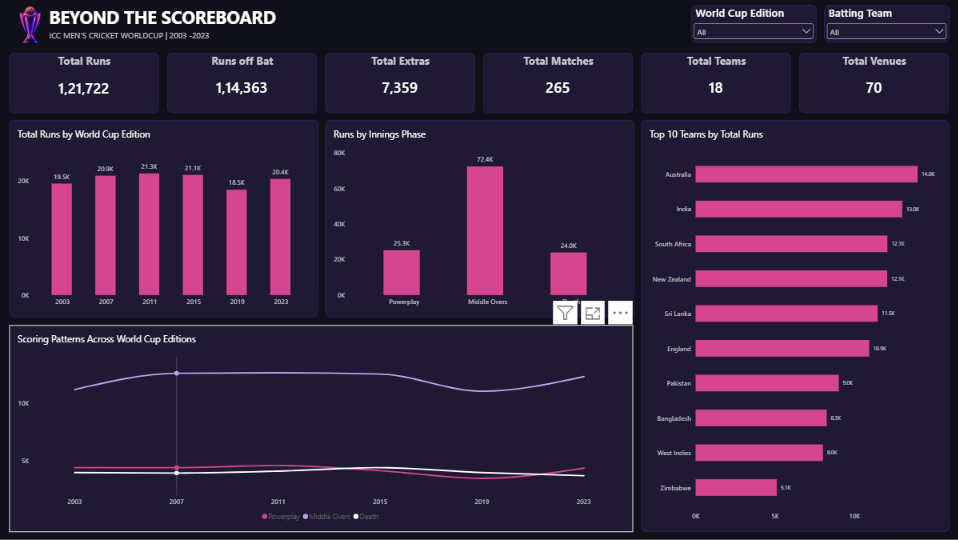

The page's visual inventory and layout, read from the dashboard file:
{"tool":"powerbi","page":{"name":"Batting Intelligence","canvas":[1920,1080],"ordinal":0},"visuals":[{"type":"cardVisual","title":"Total Runs","fields":{"Data":["all_matches.Total Runs"]},"box":[20,105,299.2,120],"z":0},{"type":"cardVisual","title":"Runs off Bat","fields":{"Data":["all_matches.Runs Off Bat"]},"box":[336.2,105,299,120],"z":1000},{"type":"cardVisual","title":"Total Extras","fields":{"Data":["all_matches.Total Extras"]},"box":[652.3,105,299.2,120],"z":2000},{"type":"cardVisual","title":"Total Matches","fields":{"Data":["all_matches.Matches Analyzed"]},"box":[968.5,105,299.2,120],"z":3000},{"type":"cardVisual","title":"Total Teams","fields":{"Data":["all_matches.Teams Analyzed"]},"box":[1284.6,105,299.2,120],"z":4000},{"type":"cardVisual","title":"Total Venues","fields":{"Data":["all_matches.Venues Analyzed"]},"box":[1600.8,105,299.2,120],"z":5000},{"type":"textbox","title":"BEYOND THE SCOREBOARD","box":[100,10,753.9,78.9],"z":6000},{"type":"clusteredColumnChart","title":"Total Runs by World Cup Edition","fields":{"Category":["all_matches.World_Cup_Year"],"Y":["all_matches.Total Runs"]},"box":[20,240,618,394],"z":7000},{"type":"clusteredColumnChart","title":"Runs by Innings Phase","fields":{"Category":["all_matches.Innings_Phase"],"Y":["all_matches.Total Runs"]},"box":[652,240,618,394],"z":8000},{"type":"lineChart","title":"Scoring Patterns Across World Cup Editions","fields":{"Category":["all_matches.World_Cup_Year"],"Series":["all_matches.Innings_Phase"],"Y":["all_matches.Total Runs"]},"box":[20,650,1248,414],"z":9000},{"type":"clusteredBarChart","title":"Top 10 Teams by Total Runs","fields":{"Category":["all_matches.batting_team"],"Y":["all_matches.Total Runs"]},"box":[1284,240,616,824],"z":10000},{"type":"slicer","fields":{"Values":["all_matches.World_Cup_Year"]},"box":[1384,10,250,76],"z":11000},{"type":"slicer","fields":{"Values":["all_matches.batting_team"]},"box":[1650,10,250,75],"z":12000},{"type":"image","box":[20,6,84,88],"z":13000}]}

Visuals, with their boxes in screenshot pixels (x1, y1, x2, y2), scaled from the page's 1920x1080 canvas onto the 958x540 screenshot:
"Total Runs" cardVisual: <box>10,52,159,112</box>
"Runs off Bat" cardVisual: <box>168,52,317,112</box>
"Total Extras" cardVisual: <box>325,52,475,112</box>
"Total Matches" cardVisual: <box>483,52,633,112</box>
"Total Teams" cardVisual: <box>641,52,790,112</box>
"Total Venues" cardVisual: <box>799,52,948,112</box>
"BEYOND THE SCOREBOARD" textbox: <box>50,5,426,44</box>
"Total Runs by World Cup Edition" clusteredColumnChart: <box>10,120,318,317</box>
"Runs by Innings Phase" clusteredColumnChart: <box>325,120,634,317</box>
"Scoring Patterns Across World Cup Editions" lineChart: <box>10,325,633,532</box>
"Top 10 Teams by Total Runs" clusteredBarChart: <box>641,120,948,532</box>
slicer - all_matches.World_Cup_Year: <box>691,5,815,43</box>
slicer - all_matches.batting_team: <box>823,5,948,42</box>
image: <box>10,3,52,47</box>
